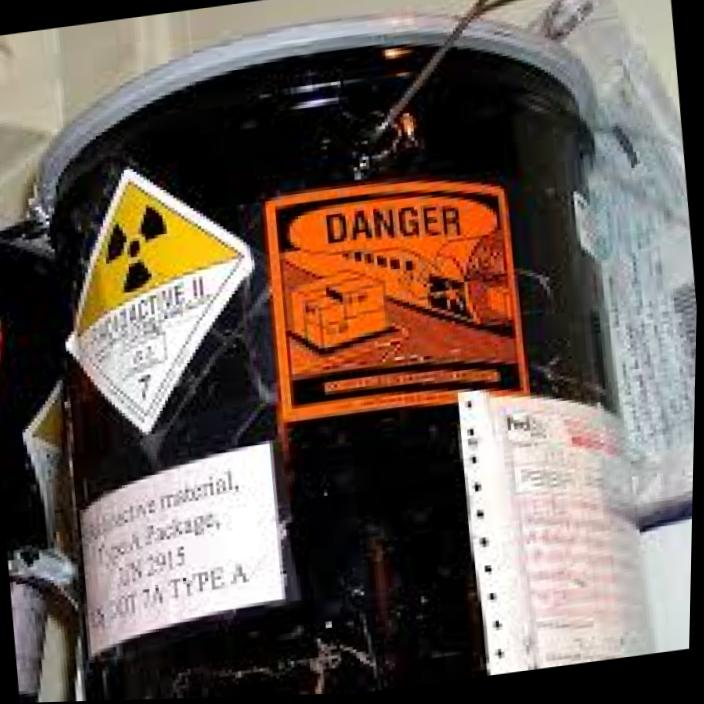doorway: (68, 169, 251, 431)
